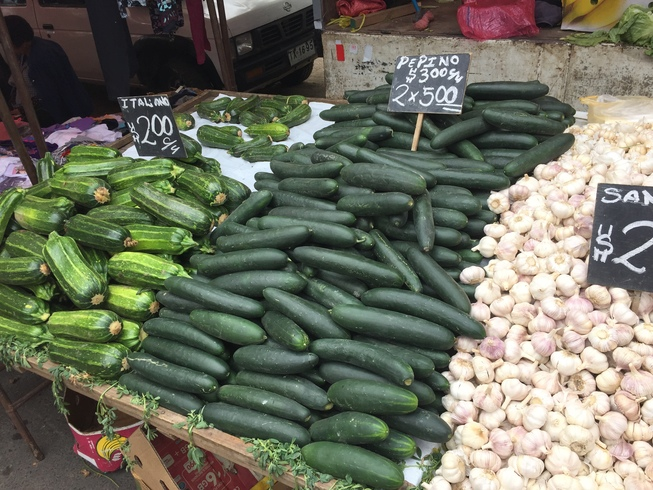precio: (582, 178, 653, 296), (383, 46, 477, 119), (118, 87, 193, 170)
